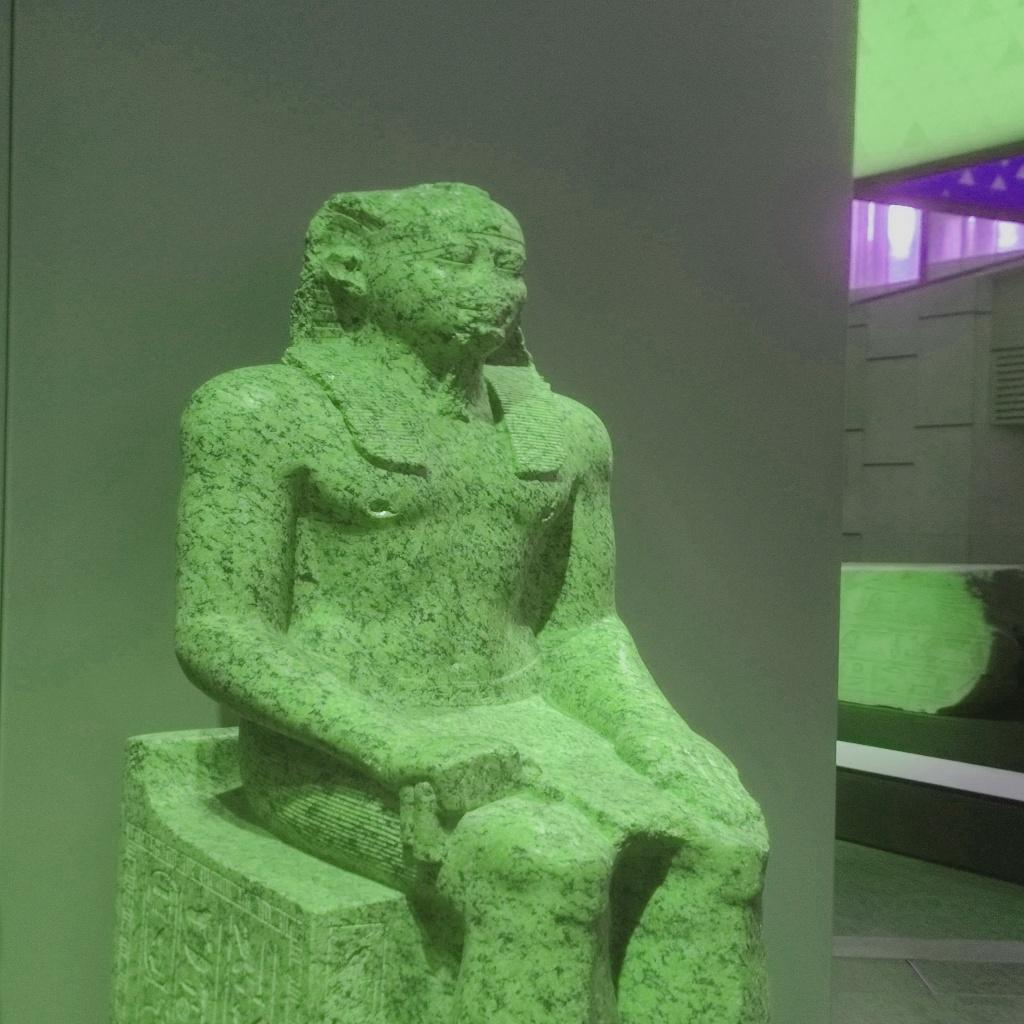Statue of Amenmhat I: (166, 178, 774, 1021)
